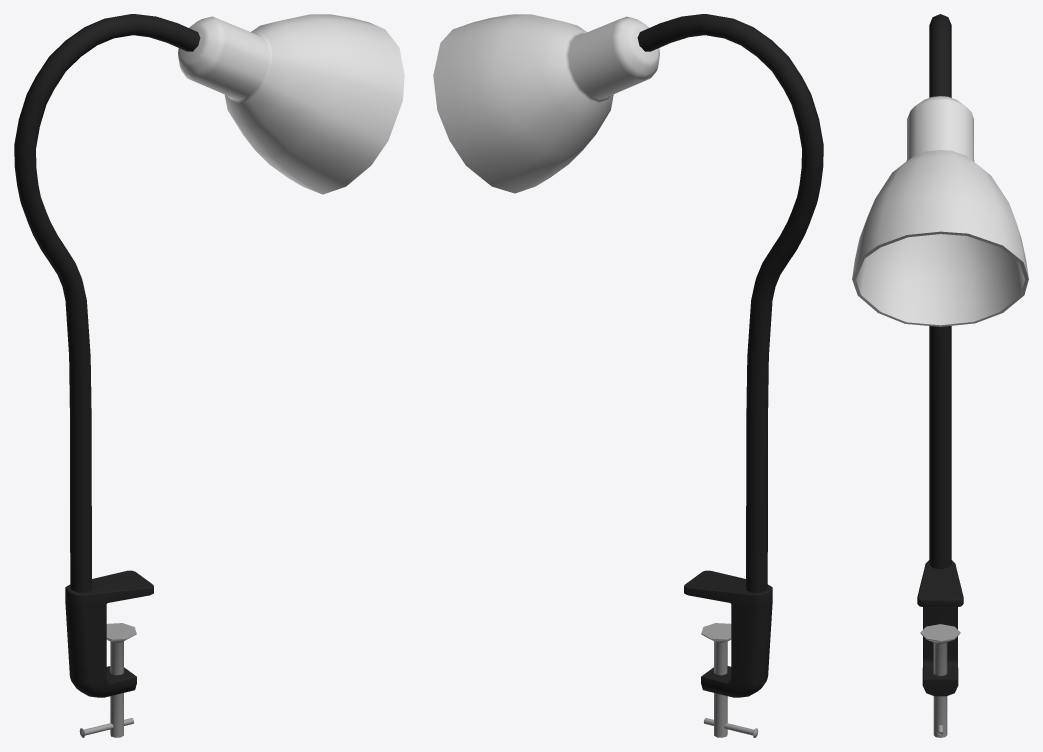
Rendered from lamp13.glb.
The picture shows the model from 3 angles, left to right: view 1: azimuth 30°, elevation 25°; view 2: azimuth 150°, elevation 25°; view 3: azimuth 270°, elevation 25°; orthographic projection.
Parts seen in each view (by area): view 1: LP_2, LP_1; view 2: LP_2, LP_1; view 3: LP_2, LP_1.
Boxes of the visible parts, x1,y1,x2,y2 form: LP_2: (178, 14, 404, 194); LP_1: (14, 14, 200, 737); LP_2: (433, 14, 659, 193); LP_1: (637, 14, 823, 737); LP_2: (852, 96, 1028, 326); LP_1: (917, 14, 963, 737).
Size of the model in its own units: 0.3061 by 0.5683 by 0.1282.
Materials: 2 (1 with a texture image).
